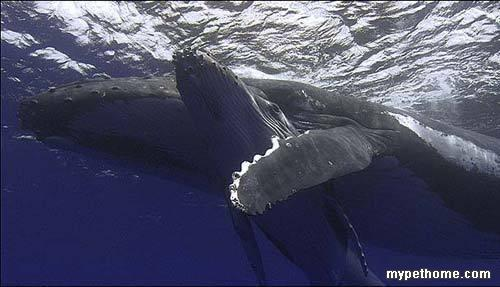fish: (5, 47, 500, 270)
